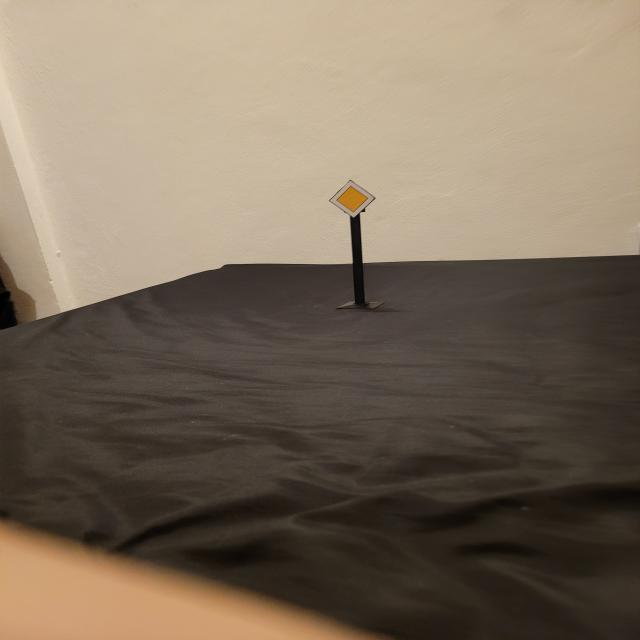priority: (328, 180, 375, 218)
